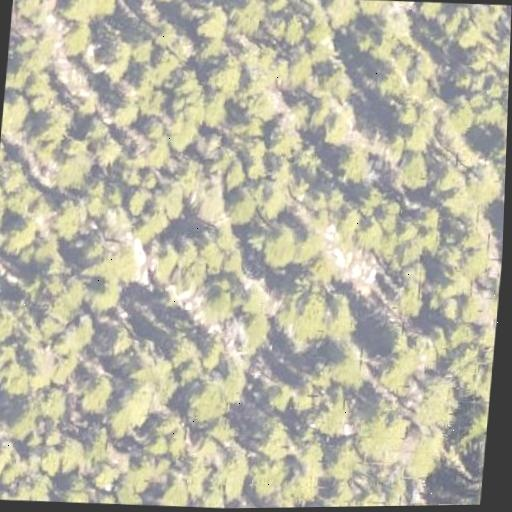tree-top: (273, 276, 341, 348), (102, 32, 175, 90), (347, 400, 413, 463), (79, 369, 145, 427), (443, 159, 506, 219), (433, 223, 492, 287), (412, 371, 466, 434), (338, 197, 395, 256), (179, 374, 239, 430), (250, 218, 309, 274), (5, 29, 58, 89), (194, 182, 257, 232), (34, 273, 93, 326), (447, 80, 502, 135), (368, 338, 421, 395), (185, 228, 245, 278), (382, 265, 435, 321), (49, 134, 102, 187), (398, 427, 450, 481), (302, 390, 357, 441), (348, 462, 410, 507), (284, 442, 327, 505), (105, 380, 157, 432), (142, 409, 196, 459), (442, 2, 496, 51), (35, 325, 92, 371), (185, 179, 235, 229), (246, 412, 295, 463), (387, 203, 431, 259), (396, 89, 445, 138), (445, 341, 493, 390), (390, 146, 437, 195), (332, 140, 380, 187), (316, 439, 357, 494), (74, 368, 119, 416), (372, 4, 420, 49), (313, 99, 358, 145), (245, 454, 290, 500), (365, 49, 411, 93), (164, 105, 206, 153), (91, 250, 145, 287), (230, 315, 279, 355), (222, 182, 264, 228), (191, 4, 234, 47), (0, 169, 41, 214), (0, 344, 32, 401), (206, 55, 249, 97), (34, 99, 75, 143), (239, 276, 283, 317), (267, 120, 309, 161), (153, 468, 197, 507), (457, 283, 496, 326), (105, 89, 144, 131), (30, 382, 70, 422), (171, 337, 210, 378), (274, 9, 314, 48), (239, 85, 279, 124), (0, 215, 38, 255), (135, 202, 175, 240), (85, 274, 125, 312), (51, 200, 91, 238), (193, 283, 236, 318), (1, 88, 32, 136), (228, 0, 268, 37), (58, 16, 95, 56), (326, 351, 363, 391), (284, 47, 320, 87), (91, 135, 128, 172), (60, 470, 96, 504), (86, 459, 120, 493), (11, 0, 58, 24), (221, 155, 252, 191), (0, 429, 19, 486), (321, 0, 360, 26), (54, 0, 100, 22), (123, 184, 154, 216), (351, 0, 398, 20), (0, 303, 22, 342), (416, 1, 449, 21), (147, 0, 179, 7), (507, 5, 512, 32)
